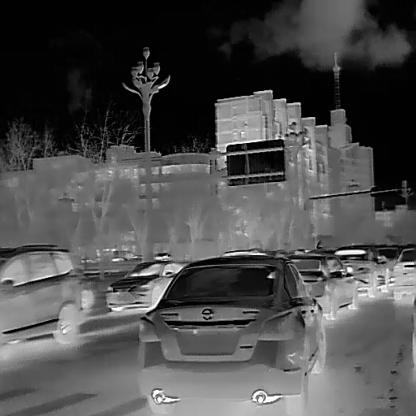car: (135, 255, 327, 415), (0, 242, 83, 348), (287, 249, 358, 326), (103, 258, 183, 312), (334, 244, 378, 301), (391, 246, 415, 302)
